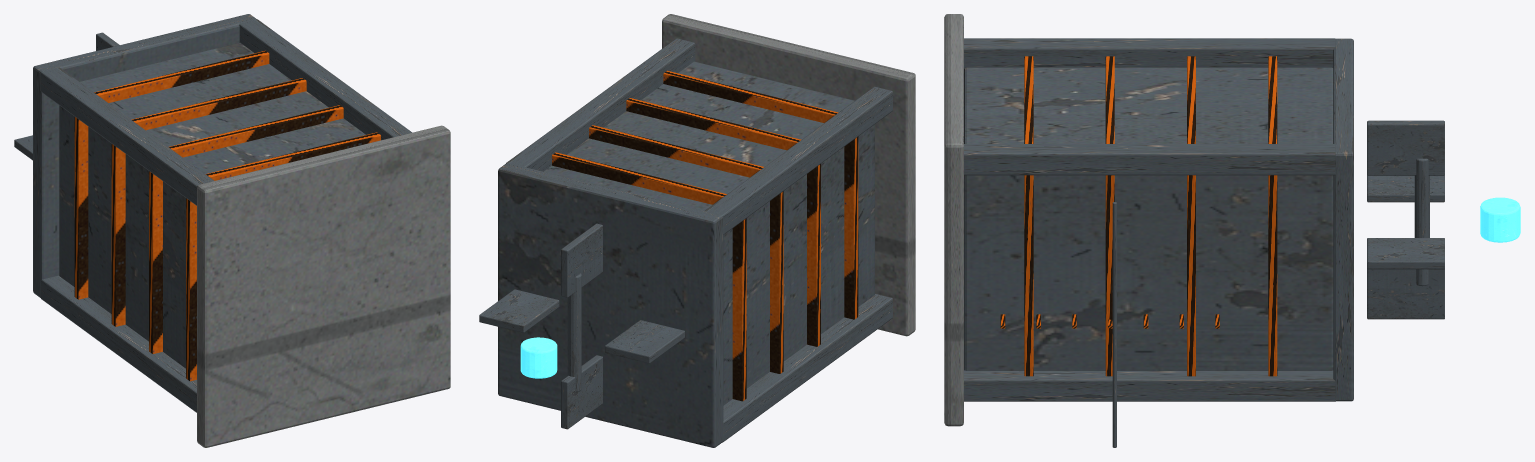
The model's file is relay_annex.glb.
The picture shows the model from 3 angles, left to right: view 1: azimuth 30°, elevation 25°; view 2: azimuth 150°, elevation 25°; view 3: azimuth 270°, elevation 25°; orthographic projection. The views are drawn at different scales.
Visible parts, largest first — view 1: RelayAnnexFoundation, RelayAnnexCore, RelayAnnexCrown, RelayButtress_-1.921.92, RelayButtress_-1.92-1.92, RelayButtress_1.921.92, RelayBand_3.8, RelayBand_5.05, RelayBand_2.55, RelayBand_1.3; view 2: RelayAnnexCrown, RelayAnnexCore, RelayAnnexFoundation, RelayButtress_-1.921.92, RelayButtress_-1.92-1.92, RelayButtress_1.921.92, RelayBand_1.3, RelayBand_5.05, RelayBand_2.55, RelayBand_3.8, RelayVane_1.5707963267948966, RelayVane_4.71238898038469 (+4 smaller); view 3: RelayAnnexCore, RelayButtress_1.921.92, RelayButtress_1.92-1.92, RelayButtress_-1.921.92, RelayAnnexFoundation, RelayAnnexCrown, RelayVane_0, RelayVane_3.141592653589793, RelayBand_1.3, RelayBand_5.05, RelayBand_3.8, RelayBand_2.55 (+5 smaller).
Boxes of the visible parts, x1,y1,x2,y2 form: RelayAnnexFoundation: (197, 125, 450, 447); RelayAnnexCore: (59, 42, 365, 368); RelayAnnexCrown: (33, 14, 256, 297); RelayButtress_-1.921.92: (40, 67, 214, 205); RelayButtress_-1.92-1.92: (40, 275, 196, 412); RelayButtress_1.921.92: (239, 19, 411, 140); RelayBand_3.8: (111, 78, 306, 326); RelayBand_5.05: (74, 50, 269, 299); RelayBand_2.55: (149, 105, 343, 353); RelayBand_1.3: (186, 132, 380, 381); RelayAnnexCrown: (498, 163, 723, 447); RelayAnnexCore: (544, 61, 874, 405); RelayAnnexFoundation: (662, 14, 915, 336); RelayButtress_-1.921.92: (705, 86, 892, 234); RelayButtress_-1.92-1.92: (722, 294, 892, 442); RelayButtress_1.921.92: (506, 38, 695, 171); RelayBand_1.3: (663, 70, 858, 319); RelayBand_5.05: (552, 152, 746, 401); RelayBand_2.55: (626, 98, 820, 346); RelayBand_3.8: (589, 125, 783, 373); RelayVane_1.5707963267948966: (479, 289, 559, 332); RelayVane_4.71238898038469: (605, 320, 684, 363); RelayAnnexCore: (964, 67, 1333, 370); RelayButtress_1.921.92: (964, 144, 1336, 175); RelayButtress_1.92-1.92: (964, 370, 1335, 401); RelayButtress_-1.921.92: (964, 38, 1335, 69); RelayAnnexFoundation: (944, 14, 963, 426); RelayAnnexCrown: (1333, 38, 1353, 401); RelayVane_0: (1367, 120, 1444, 175); RelayVane_3.141592653589793: (1367, 268, 1444, 319); RelayBand_1.3: (1024, 56, 1033, 376); RelayBand_5.05: (1268, 56, 1277, 376); RelayBand_3.8: (1187, 56, 1195, 376); RelayBand_2.55: (1105, 56, 1114, 376).
Bounding box in the file's own units: 4.8 × 5.28 × 8.86.
5 materials, 5 textured.
